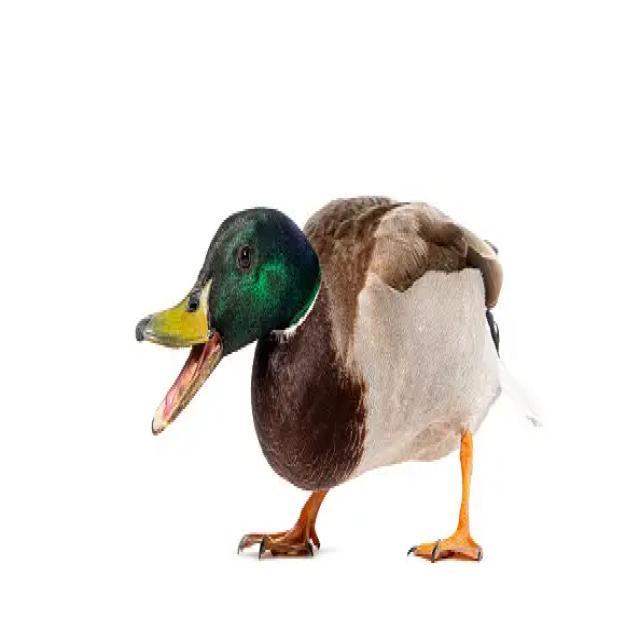ducks: (97, 138, 551, 612)
